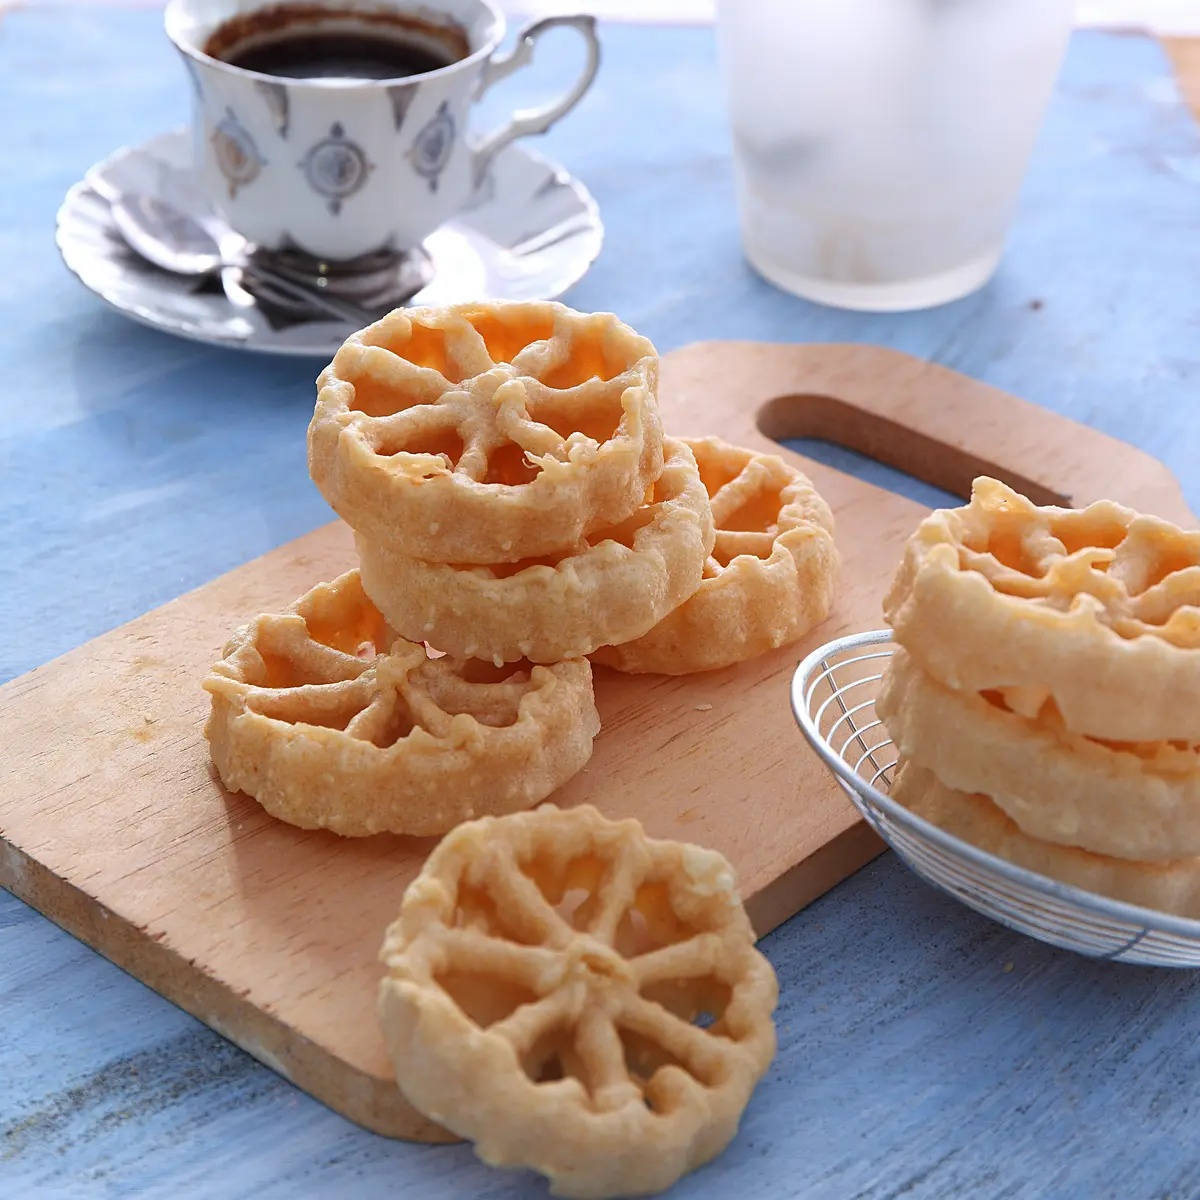kembang_goyang: (391, 804, 762, 1191), (307, 270, 679, 552)
